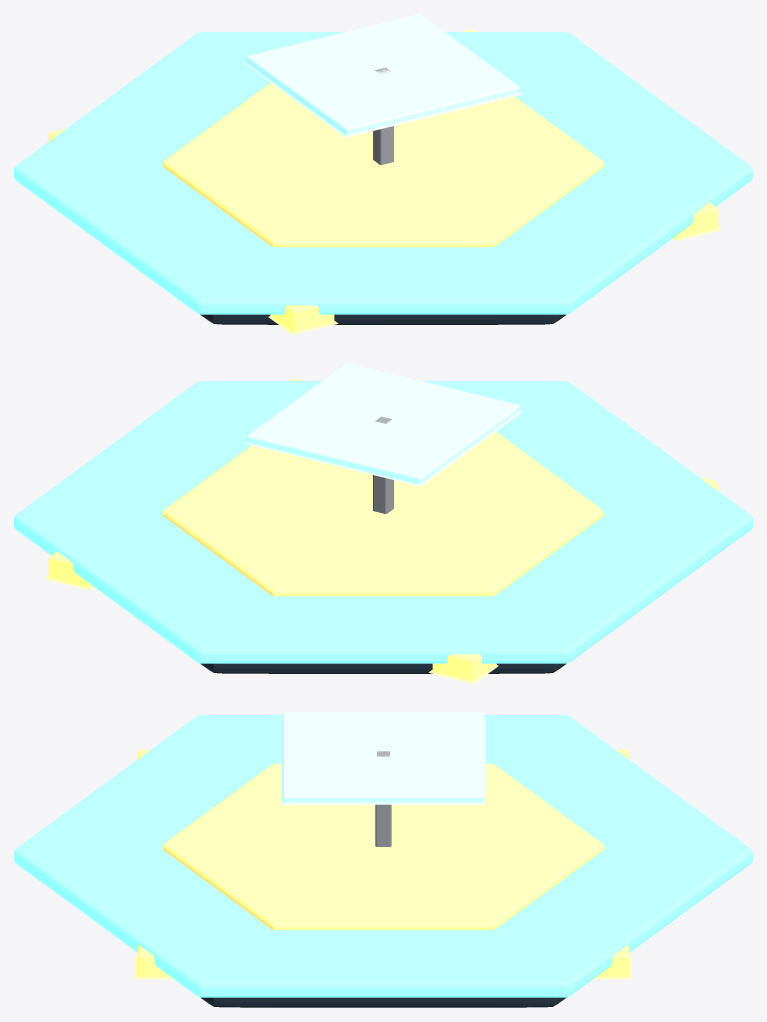
The model's file is blueprint-pad.glb.
The picture shows the model from 3 angles, top to bottom: view 1: azimuth 30°, elevation 25°; view 2: azimuth 150°, elevation 25°; view 3: azimuth 270°, elevation 25°; orthographic projection.
Visible parts, largest first — view 1: BP_Rim, BP_Inner, BP_Holo, BP_Pad, BP_Corner_3, BP_Corner_2, BP_HoloStem; view 2: BP_Rim, BP_Inner, BP_Holo, BP_Pad, BP_Corner_1, BP_Corner_0, BP_HoloStem; view 3: BP_Rim, BP_Inner, BP_Holo, BP_Pad, BP_HoloStem, BP_Corner_0, BP_Corner_2.
Part boxes in pixels (x1,y1,x2,y2): BP_Rim: (14,32,752,314); BP_Inner: (162,83,604,247); BP_Holo: (244,14,522,137); BP_Pad: (200,314,566,324); BP_Corner_3: (268,305,338,334); BP_Corner_2: (672,202,721,241); BP_HoloStem: (373,67,393,164); BP_Rim: (14,381,752,663); BP_Inner: (162,432,604,596); BP_Holo: (244,363,522,486); BP_Pad: (200,663,566,673); BP_Corner_1: (428,654,498,683); BP_Corner_0: (45,551,94,590); BP_HoloStem: (373,416,393,513); BP_Rim: (14,715,752,997); BP_Inner: (162,763,604,929); BP_Holo: (281,712,485,804); BP_Pad: (200,997,566,1007); BP_HoloStem: (375,751,391,846); BP_Corner_0: (593,945,631,979); BP_Corner_2: (135,945,173,979).
Bounding box in the file's own units: 1.59 × 0.3597 × 1.83.
